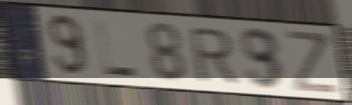8: (144, 20, 188, 85)
9: (237, 26, 288, 92), (47, 12, 90, 79)
L: (94, 18, 140, 79)
R: (186, 26, 241, 85)
Z: (284, 28, 340, 96)
